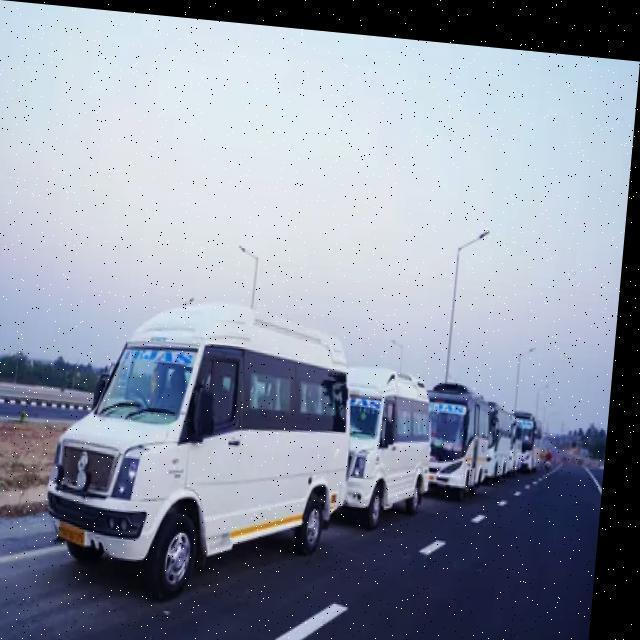Ambulance: (44, 274, 565, 626), (0, 396, 611, 640), (340, 353, 448, 528), (425, 368, 504, 496)
